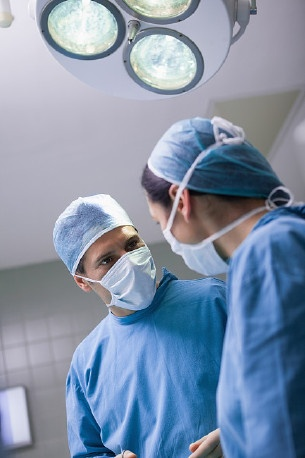Mask: (82, 234, 159, 311)
